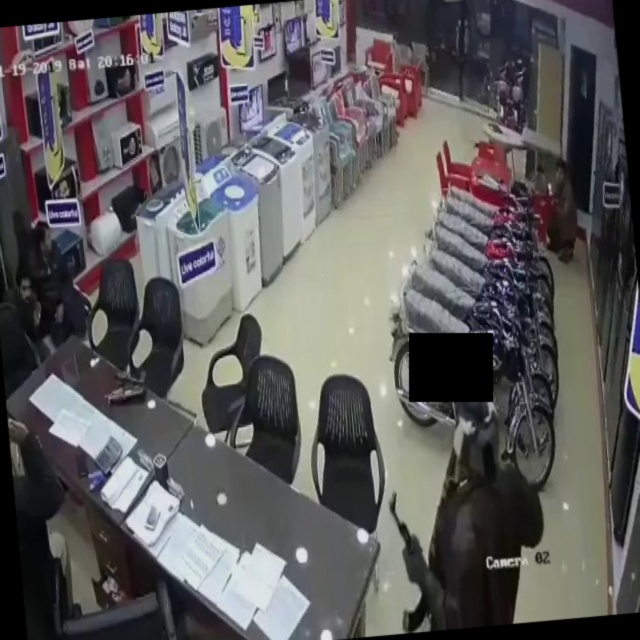gun: (387, 484, 435, 632)
